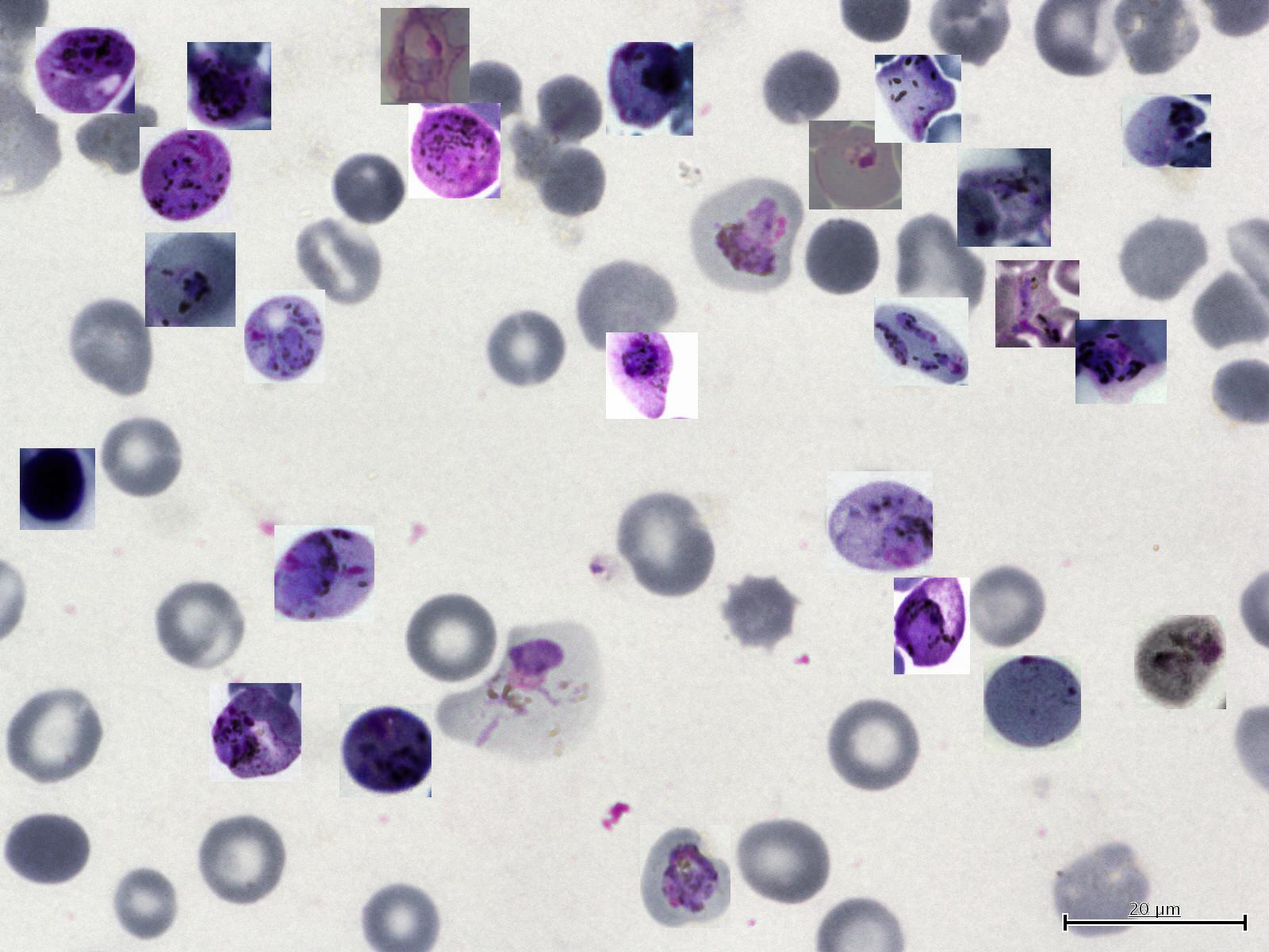Infected: (437, 624, 596, 753), (687, 176, 803, 292), (826, 471, 933, 575), (275, 525, 375, 622), (983, 655, 1081, 751), (957, 148, 1051, 247), (640, 825, 730, 928), (209, 683, 301, 781), (140, 127, 232, 225), (408, 103, 500, 198), (1134, 615, 1226, 709), (145, 233, 236, 328), (381, 8, 470, 105), (339, 704, 431, 797), (36, 27, 135, 113), (874, 298, 968, 386), (809, 121, 902, 209), (606, 42, 693, 136), (606, 332, 698, 419), (1075, 320, 1167, 404), (875, 55, 961, 143), (244, 290, 325, 383), (187, 42, 271, 130), (995, 260, 1079, 347), (894, 578, 970, 674), (1122, 94, 1211, 167), (20, 449, 95, 531)
Uninfected: (616, 493, 716, 600), (1049, 838, 1149, 943), (3, 685, 104, 787), (574, 259, 676, 356), (825, 695, 922, 794), (404, 590, 500, 687), (892, 212, 985, 312), (67, 296, 157, 398), (734, 815, 831, 908), (153, 578, 247, 673), (195, 812, 288, 908), (292, 214, 384, 309), (1115, 212, 1210, 303), (98, 413, 185, 501), (963, 562, 1048, 651), (71, 96, 161, 178), (0, 811, 93, 889), (801, 213, 884, 299), (759, 46, 842, 131), (484, 307, 568, 390), (719, 572, 799, 654), (328, 147, 407, 227), (101, 858, 177, 935), (533, 77, 604, 152), (536, 148, 605, 220), (441, 60, 522, 121)
